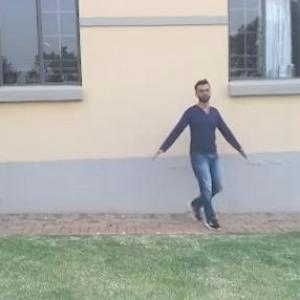land: (145, 83, 244, 235)
